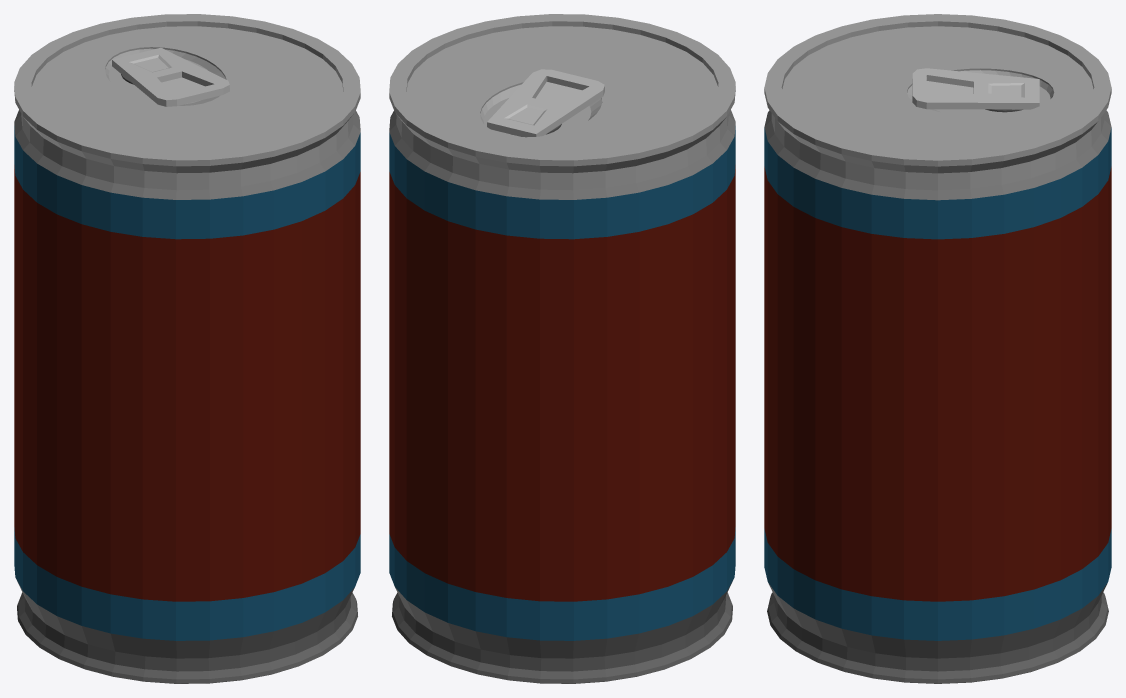
File: Can of Cola.fbx
3 views of the same model, side by side, from view 1: azimuth 30°, elevation 25°; view 2: azimuth 150°, elevation 25°; view 3: azimuth 270°, elevation 25° (orthographic).
Parts seen in each view (by area): view 1: Can of Cola; view 2: Can of Cola; view 3: Can of Cola.
Part boxes in pixels (bbox=[...]): Can of Cola: bbox=[14, 14, 360, 683]; Can of Cola: bbox=[389, 14, 735, 683]; Can of Cola: bbox=[764, 14, 1111, 683].
Bounding box in the file's own units: 15.54 × 26.08 × 15.54.
1 material, 1 textured.
